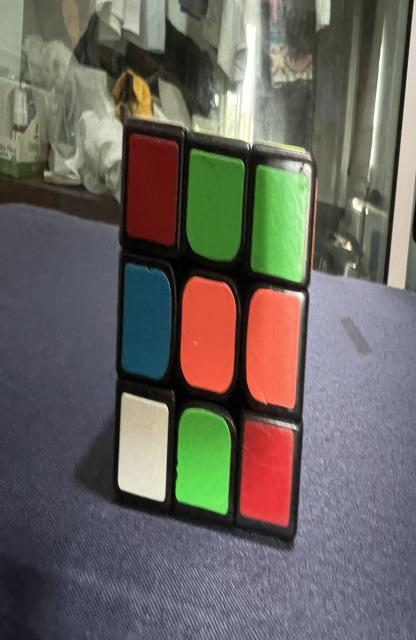Blue: (122, 263, 171, 380)
Green: (251, 165, 309, 282), (186, 148, 245, 262), (176, 408, 232, 515)
Orange: (180, 277, 236, 393), (246, 288, 300, 408)
Red: (126, 133, 179, 245), (240, 420, 293, 527)
White: (118, 392, 169, 502)
